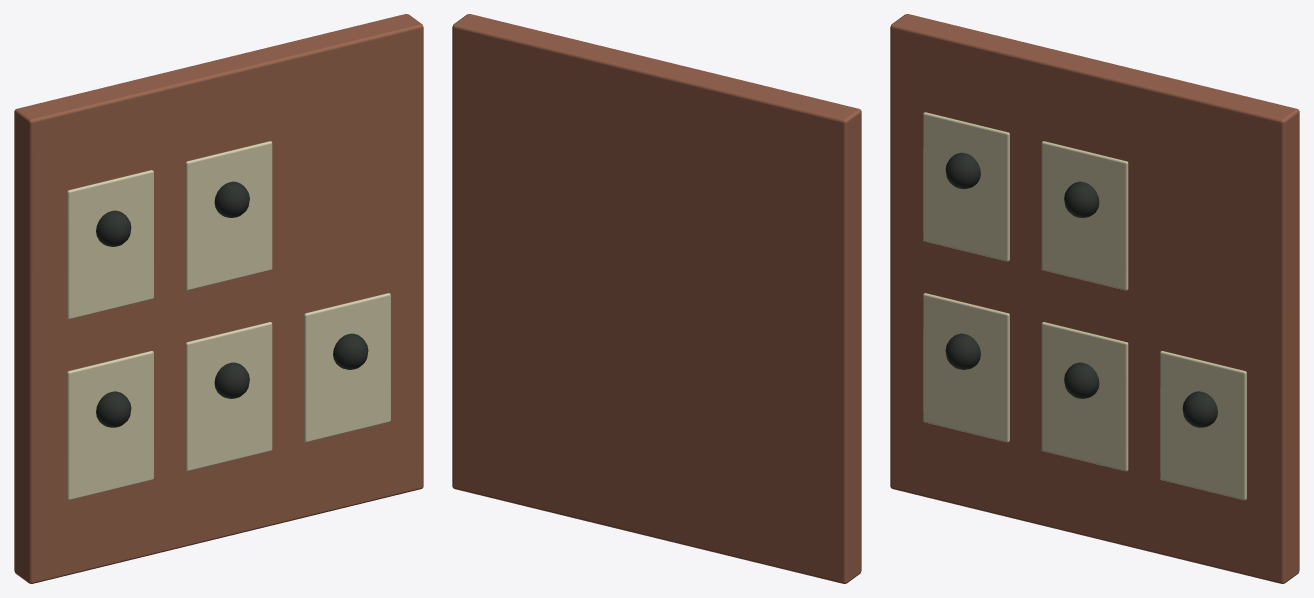
Rendered from undercity-sewers-and-thieves-den-wanted-poster-wall-0ba01947__27248.glb.
3 views of the same model, side by side, from view 1: azimuth 30°, elevation 25°; view 2: azimuth 150°, elevation 25°; view 3: azimuth 330°, elevation 25° (orthographic).
Parts seen in each view (by area): view 1: wanted-poster-wall; view 2: wanted-poster-wall; view 3: wanted-poster-wall.
Part boxes in pixels (x1=…): wanted-poster-wall: x1=14, y1=14, x2=423, y2=583; wanted-poster-wall: x1=452, y1=14, x2=861, y2=583; wanted-poster-wall: x1=890, y1=14, x2=1299, y2=583.
Bounding box in the file's own units: 1.6 × 1.8 × 0.213.
